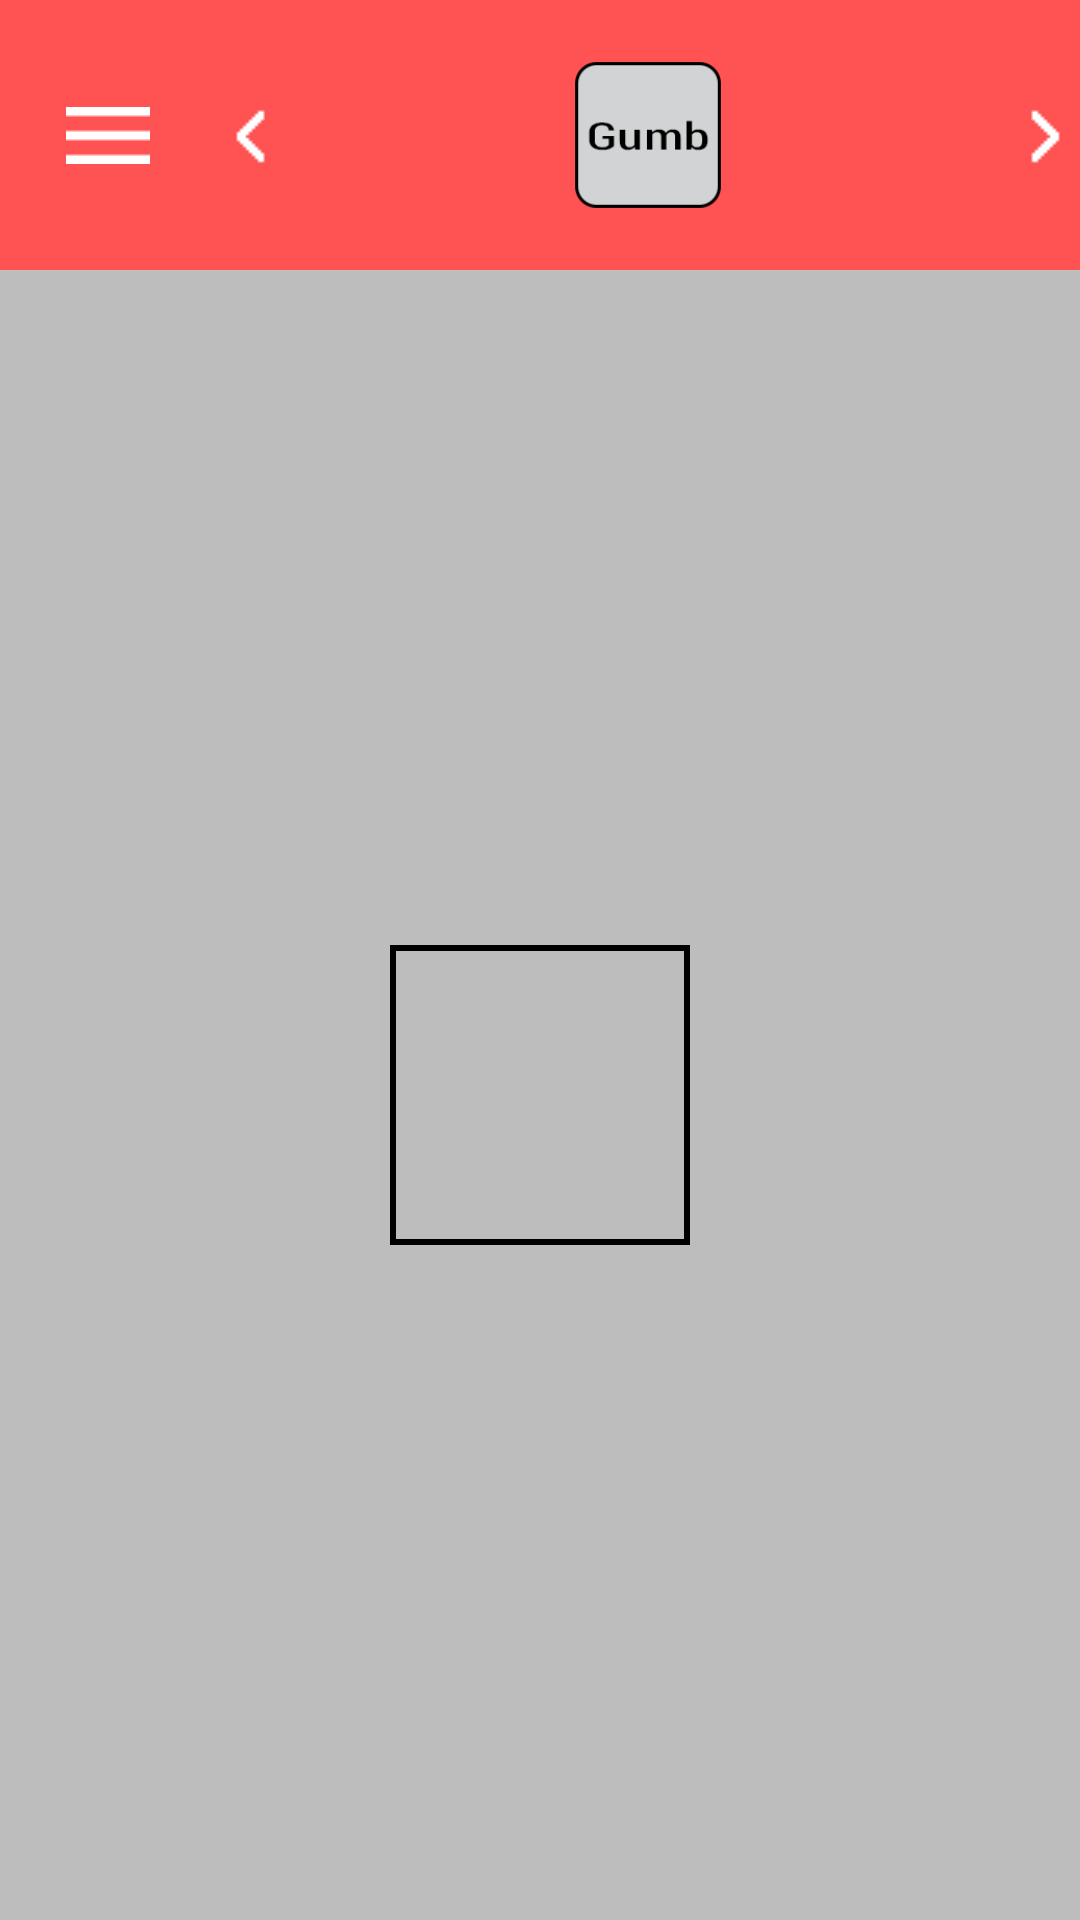

Named icons in this screenshot (1080×1920) and their centers, point (x, y):
arrowl: point (250, 136)
arrowr: point (1045, 136)
menu: point (108, 135)
